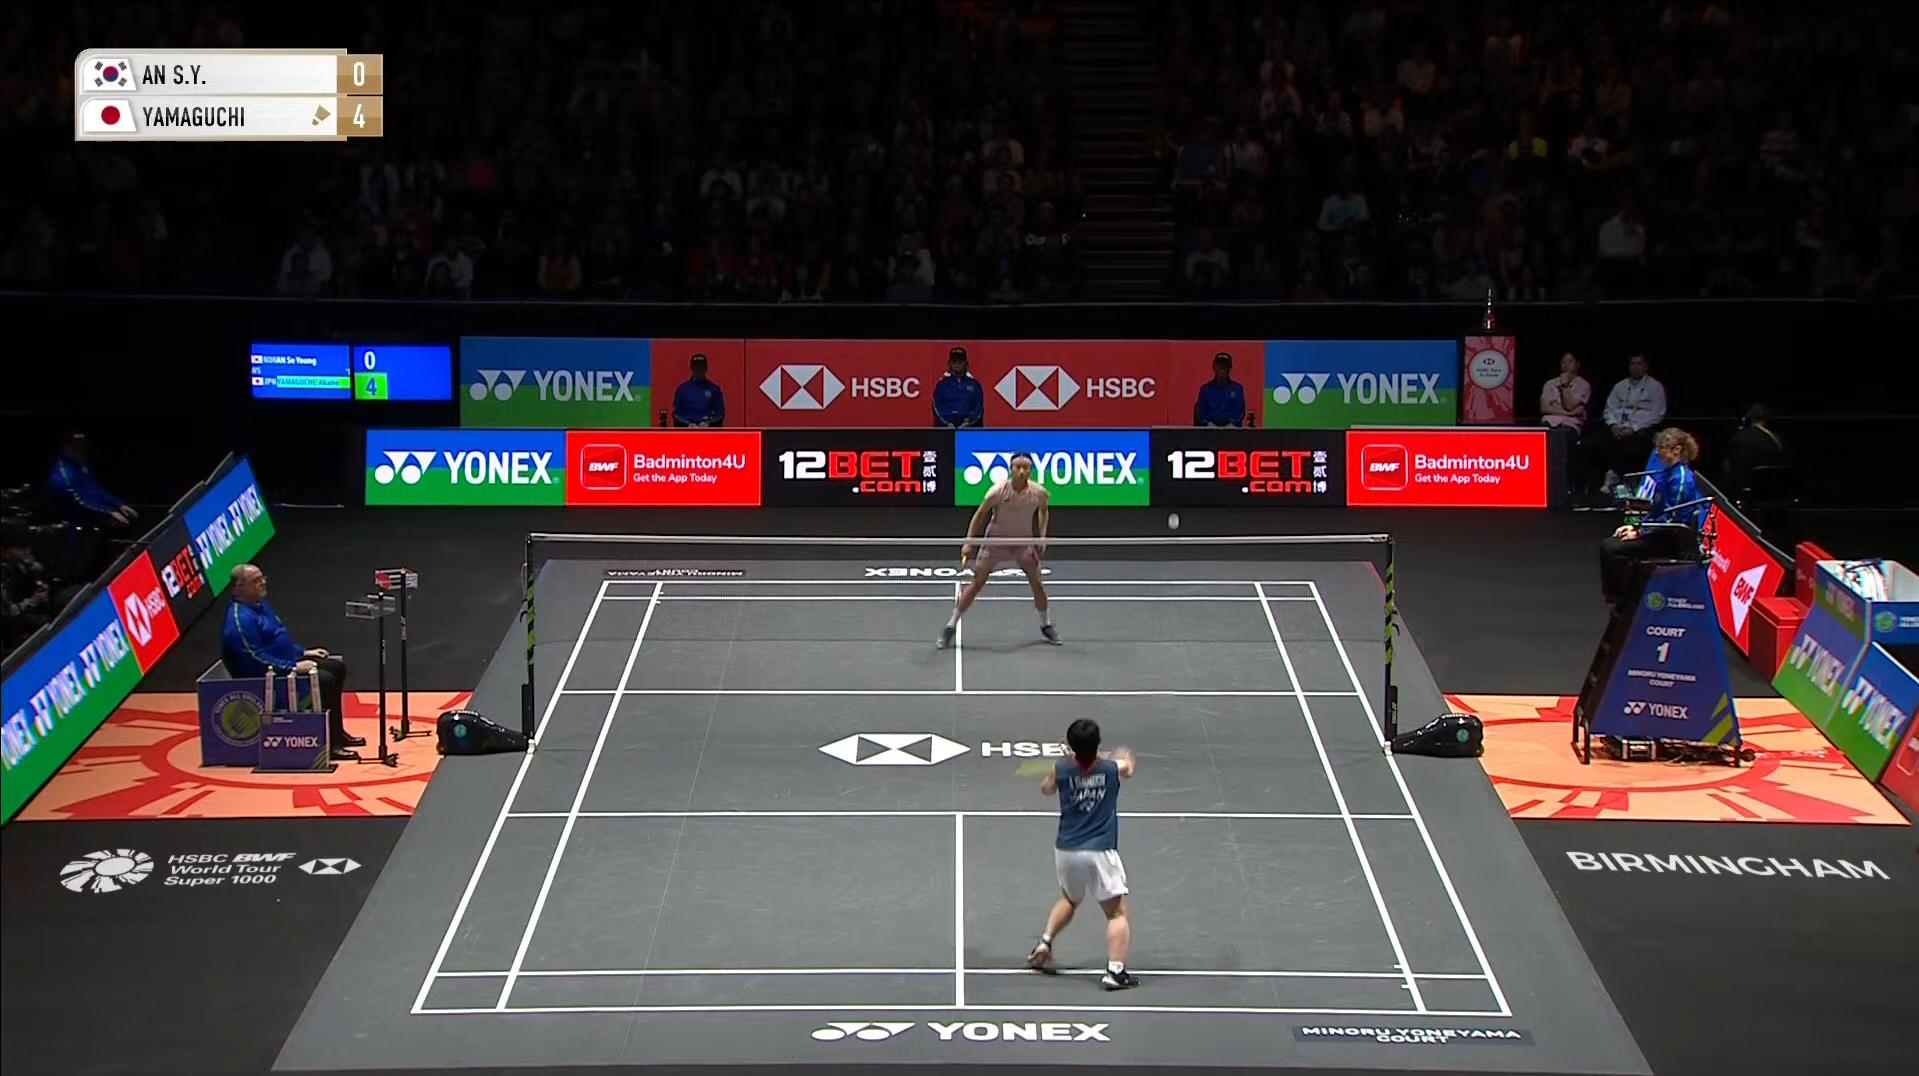shuttle: (1160, 510, 1191, 538)
